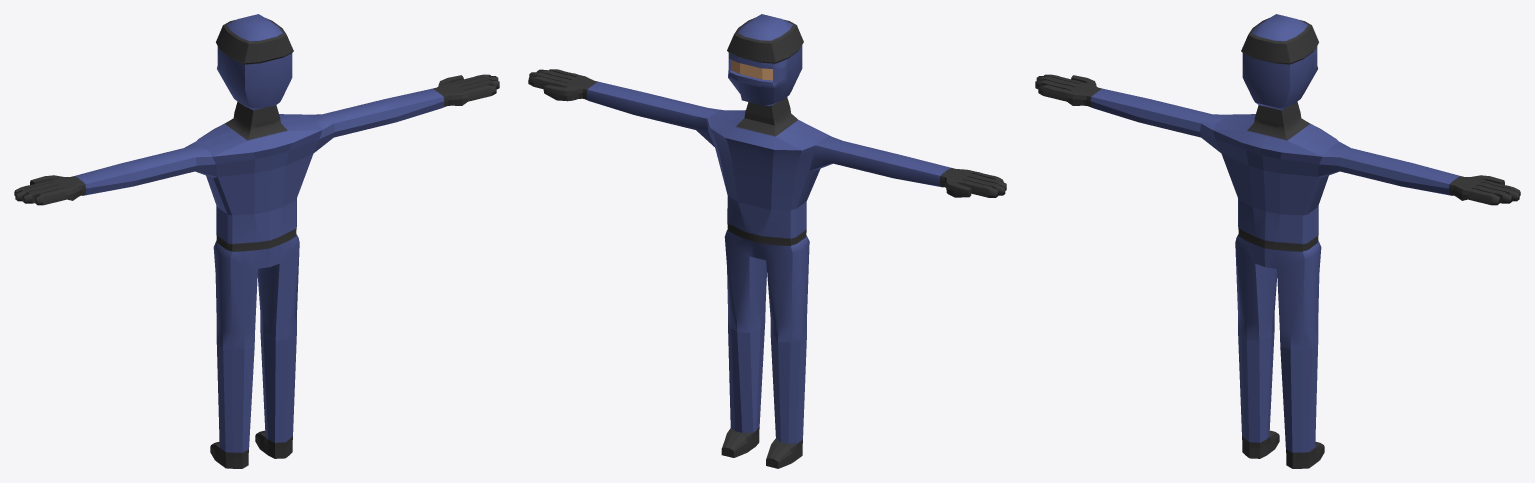
Rendered from ninja_norig.fbx.
3 renders of one model, left to right at view 1: azimuth 30°, elevation 25°; view 2: azimuth 150°, elevation 25°; view 3: azimuth 330°, elevation 25°, orthographic.
Parts seen in each view (by area): view 1: pCube13; view 2: pCube13; view 3: pCube13.
Part boxes in pixels (<box>): pCube13: <box>14,14,499,468</box>; pCube13: <box>528,14,1006,468</box>; pCube13: <box>1035,14,1520,468</box>.
Bounding box in the file's own units: 219 × 190 × 28.48.
